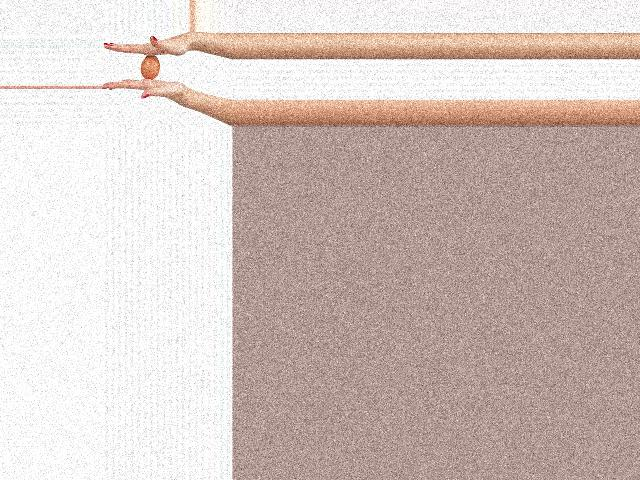egg: (141, 56, 160, 80)
